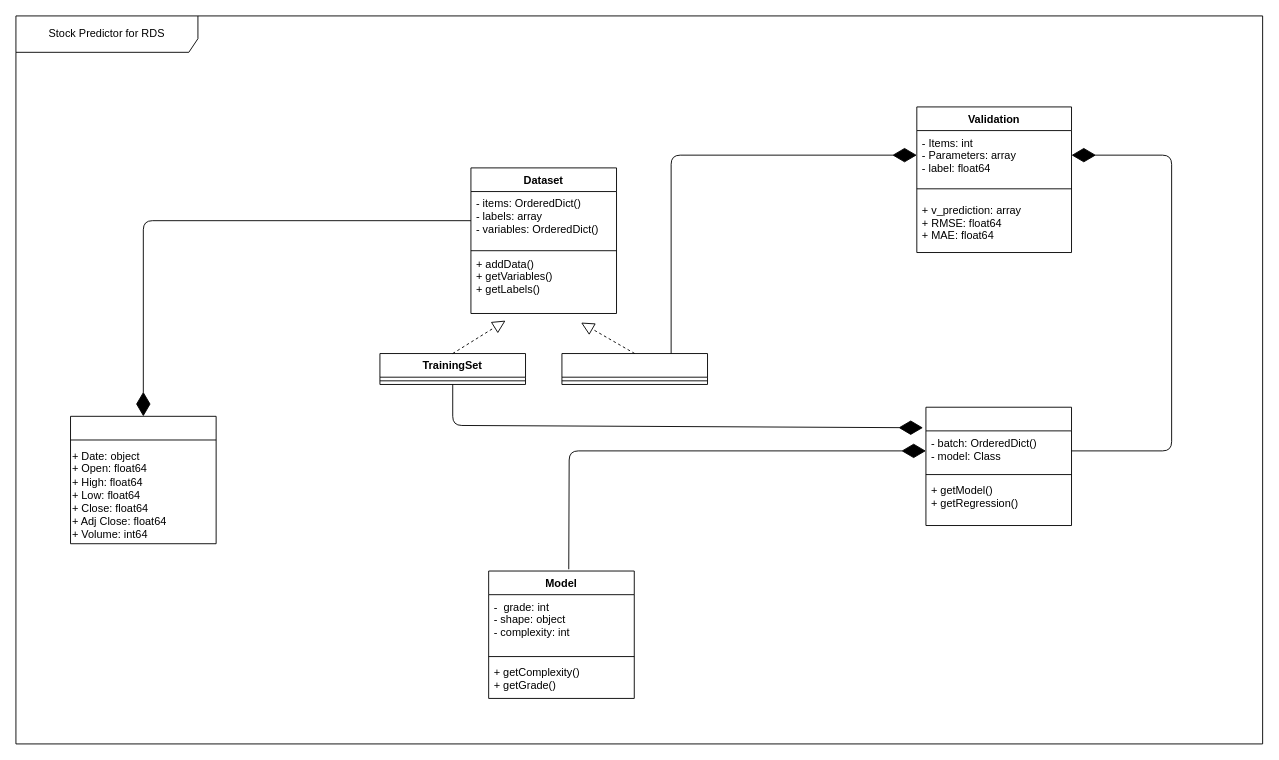
This 1279x760 diagram has some shape labels left out. Each missing label, with the box of its shape:
DataFrame: (70, 415, 216, 544)
TestingSet: (561, 353, 708, 384)
Training: (925, 406, 1072, 526)
